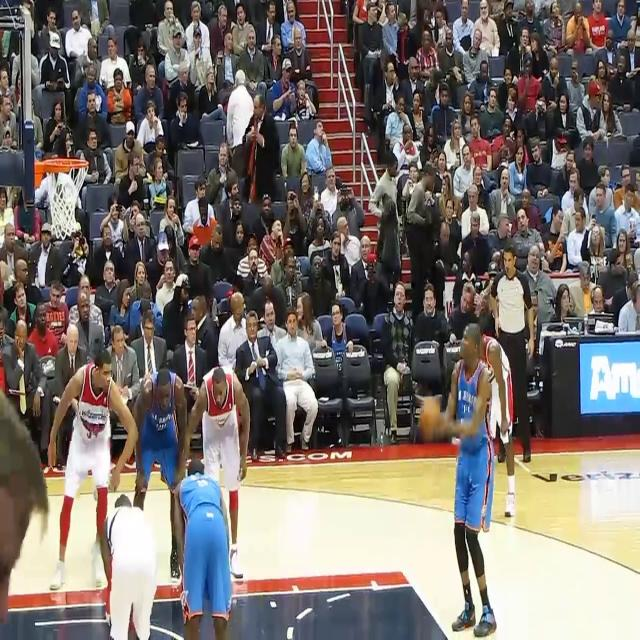ball: (419, 399, 441, 443)
